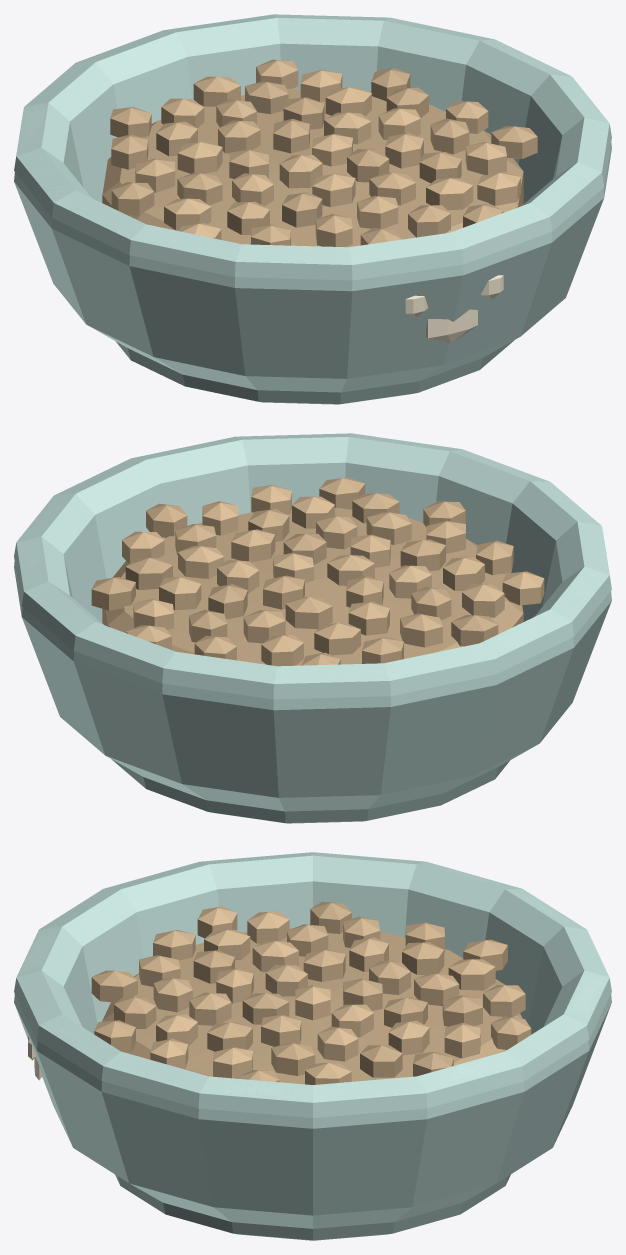
Rendered from crafted-cat-food-5-2.glb.
3 views of the same model, one above another, from view 1: azimuth 30°, elevation 25°; view 2: azimuth 150°, elevation 25°; view 3: azimuth 270°, elevation 25° (orthographic).
Parts seen in each view (by area): view 1: ceramic-bowl, glazed-rim, ration-volume, foot-ring, ration-granule-24, ration-granule-12, ration-granule-37, ration-granule-19, ration-granule-38, ration-granule-1, ration-granule-14, ration-granule-30 (+37 smaller); view 2: ceramic-bowl, glazed-rim, ration-volume, foot-ring, ration-granule-7, ration-granule-20, ration-granule-8, ration-granule-39, ration-granule-25, ration-granule-13, ration-granule-43, ration-granule-30 (+37 smaller); view 3: ceramic-bowl, glazed-rim, ration-volume, foot-ring, ration-granule-40, ration-granule-26, ration-granule-13, ration-granule-28, ration-granule-21, ration-granule-11, ration-granule-36, ration-granule-20 (+37 smaller).
Part boxes in pixels (x1,y1,x2,y2): ceramic-bowl: [14, 14, 611, 392]; glazed-rim: [14, 14, 611, 280]; ration-volume: [102, 89, 523, 247]; foot-ring: [116, 340, 514, 404]; ration-granule-24: [426, 178, 473, 210]; ration-granule-12: [177, 141, 222, 173]; ration-granule-37: [477, 172, 520, 205]; ration-granule-19: [357, 195, 398, 228]; ration-granule-38: [111, 182, 154, 215]; ration-granule-1: [279, 155, 322, 188]; ration-granule-14: [282, 192, 322, 227]; ration-granule-30: [164, 198, 211, 230]; ceramic-bowl: [14, 433, 611, 811]; glazed-rim: [14, 433, 611, 699]; ration-volume: [102, 508, 523, 665]; foot-ring: [111, 759, 509, 823]; ration-granule-7: [285, 597, 332, 629]; ration-granule-20: [314, 623, 360, 655]; ration-granule-8: [231, 529, 275, 562]; ration-granule-39: [91, 577, 135, 610]; ration-granule-25: [400, 613, 442, 647]; ration-granule-13: [178, 546, 224, 578]; ration-granule-43: [502, 571, 544, 605]; ration-granule-30: [462, 584, 504, 617]; ceramic-bowl: [14, 852, 611, 1228]; glazed-rim: [14, 852, 611, 1117]; ration-volume: [102, 928, 522, 1084]; foot-ring: [115, 1174, 510, 1240]; ration-granule-40: [91, 970, 137, 1002]; ration-granule-26: [360, 1045, 402, 1077]; ration-granule-13: [317, 1026, 358, 1061]; ration-granule-28: [448, 959, 495, 990]; ration-granule-21: [271, 1042, 315, 1075]; ration-granule-11: [189, 992, 231, 1025]; ration-granule-36: [483, 985, 525, 1017]; ration-granule-20: [402, 942, 444, 974].
Size of the model in its own units: 0.76 by 0.265 by 0.76.
